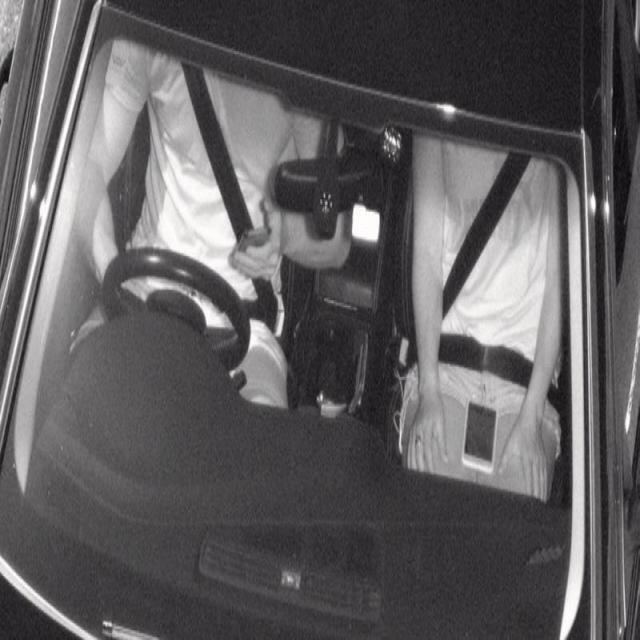seatbelt: (165, 52, 284, 336), (434, 162, 562, 411)
